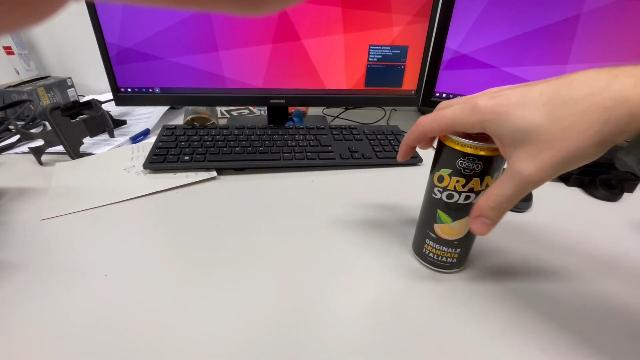OranSoda: (410, 126, 510, 278)
